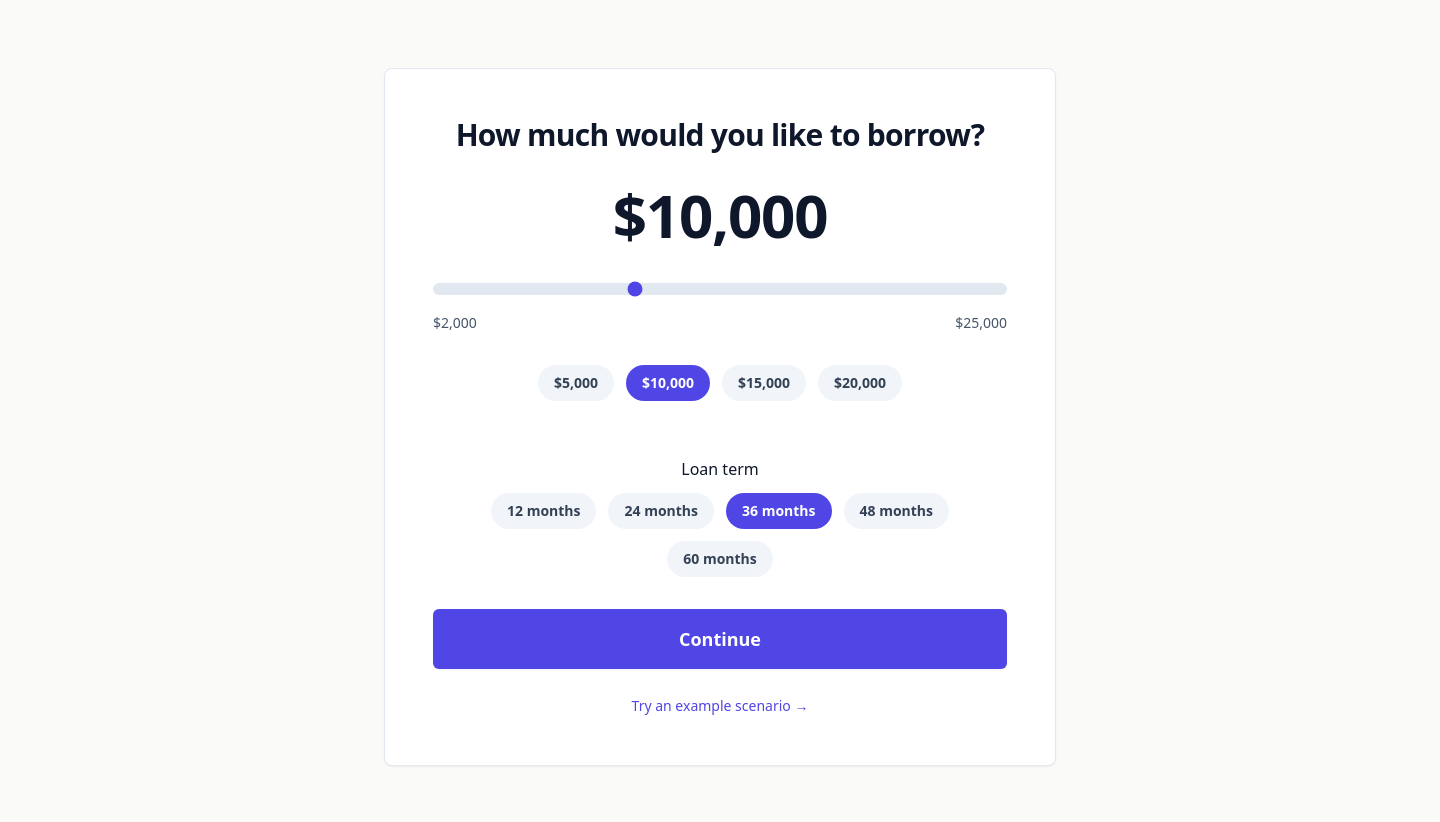
Test: LoanWizard › Navigation Handlers › handleAmountContinue updates loanRequest and advances to step 2
Set the slider to "12000": (684,289) [433,283,1007,295]
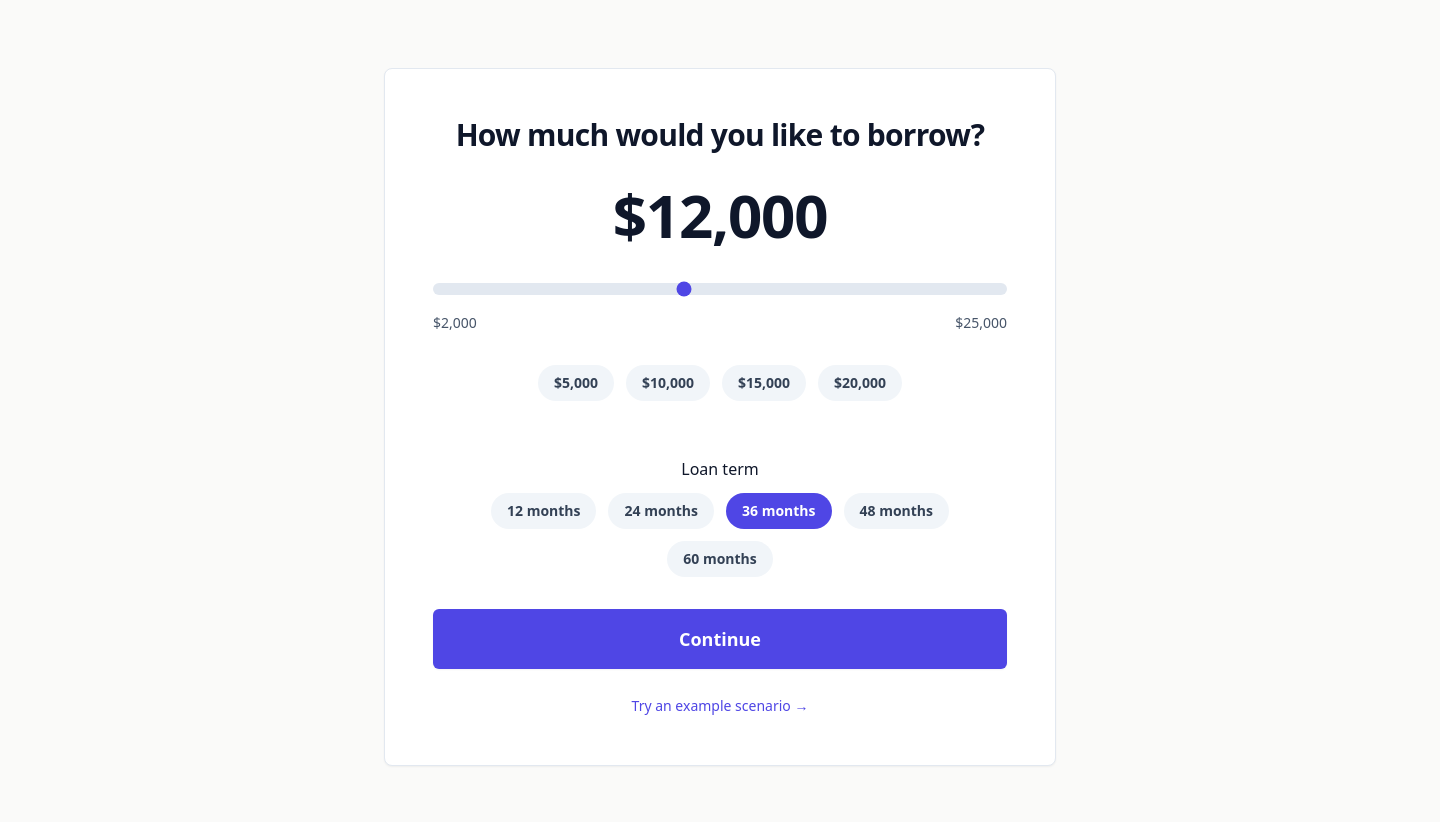
Click the button "Continue": (720,639) [433,609,1007,669]
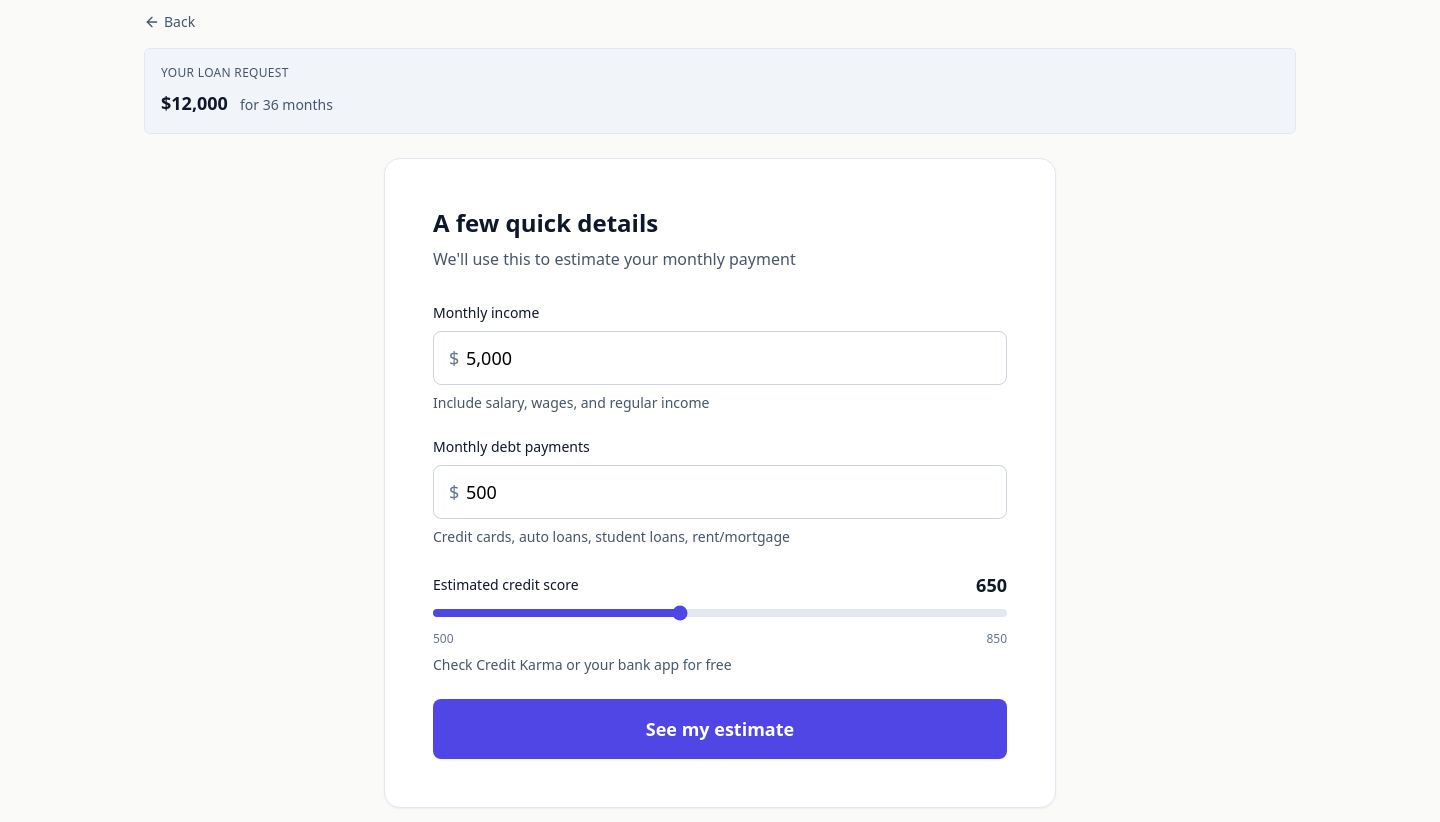
Result: the text "$12,000" is shown at [161,89,228,117]
Result: the heading "A few quick details" is shown at [433,206,658,239]
